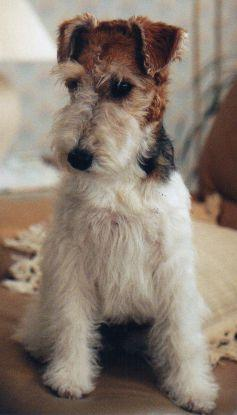wire-haired_fox_terrier: (9, 12, 220, 413)
